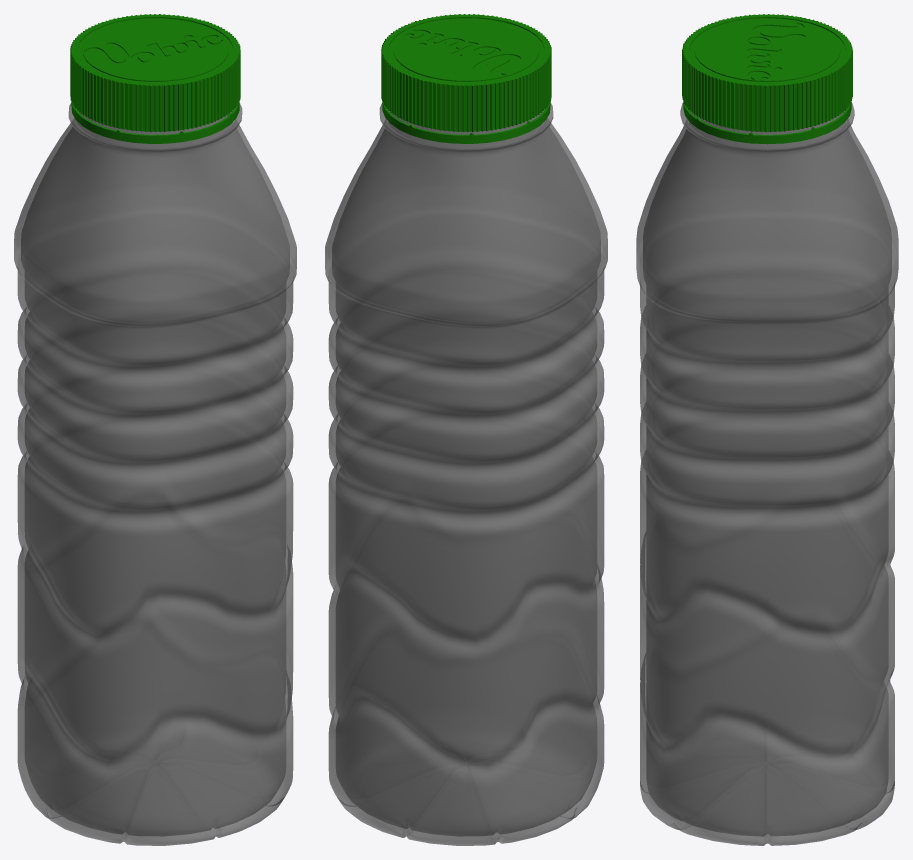
The model's file is plasticbottle.FBX.
3 views of the same model, side by side, from view 1: azimuth 30°, elevation 25°; view 2: azimuth 150°, elevation 25°; view 3: azimuth 270°, elevation 25° (orthographic).
Visible parts, largest first — view 1: PlasticBottle, PlasticCap, PlasticCapLock; view 2: PlasticBottle, PlasticCap, PlasticCapLock; view 3: PlasticBottle, PlasticCap, PlasticCapLock.
Boxes of the visible parts, x1,y1,x2,y2 form: PlasticBottle: (14, 102, 296, 845); PlasticCap: (70, 14, 240, 132); PlasticCapLock: (71, 102, 239, 143); PlasticBottle: (325, 103, 607, 845); PlasticCap: (381, 14, 551, 132); PlasticCapLock: (382, 101, 550, 143); PlasticBottle: (636, 102, 898, 845); PlasticCap: (682, 14, 852, 132); PlasticCapLock: (683, 102, 851, 144).
Size of the model in its own units: 20.54 by 64.49 by 20.54.
